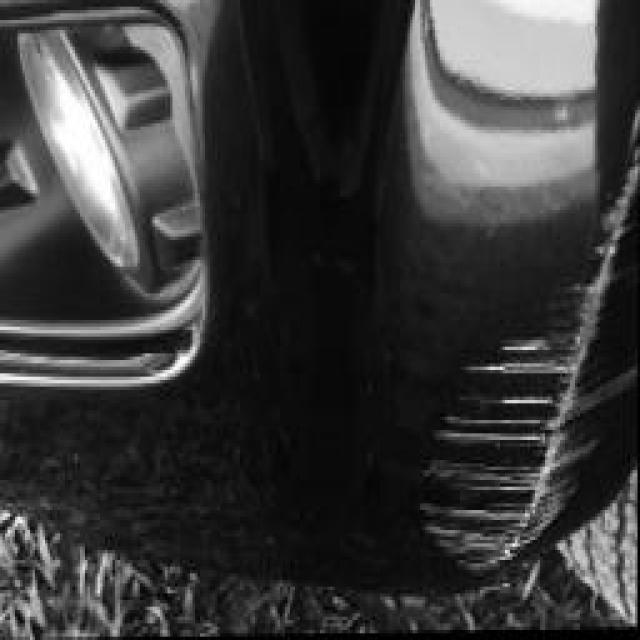Bumper: (382, 67, 640, 594)
